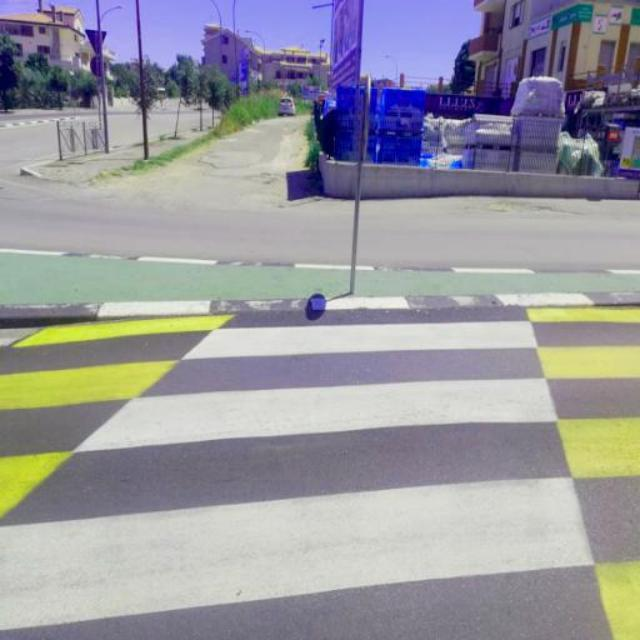sidewalk: (0, 298, 622, 640)
